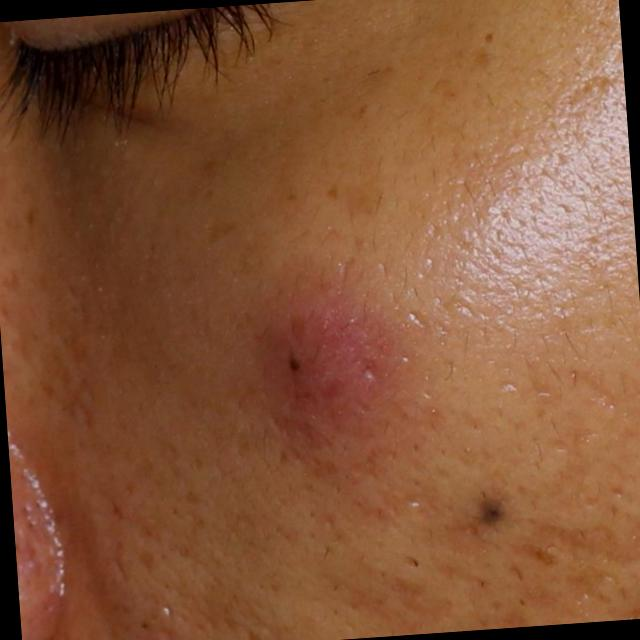blackhead: (140, 622, 148, 630)
nodule: (263, 304, 380, 424)
